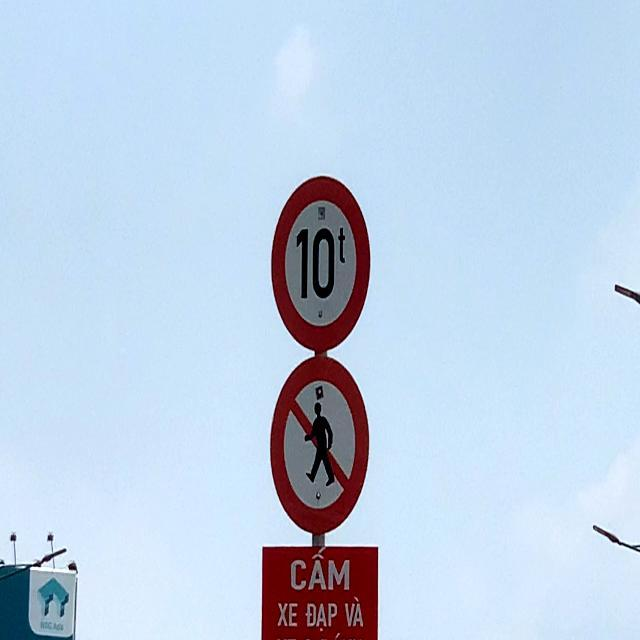P-112: (271, 356, 369, 533)
P-115: (270, 176, 370, 352)
